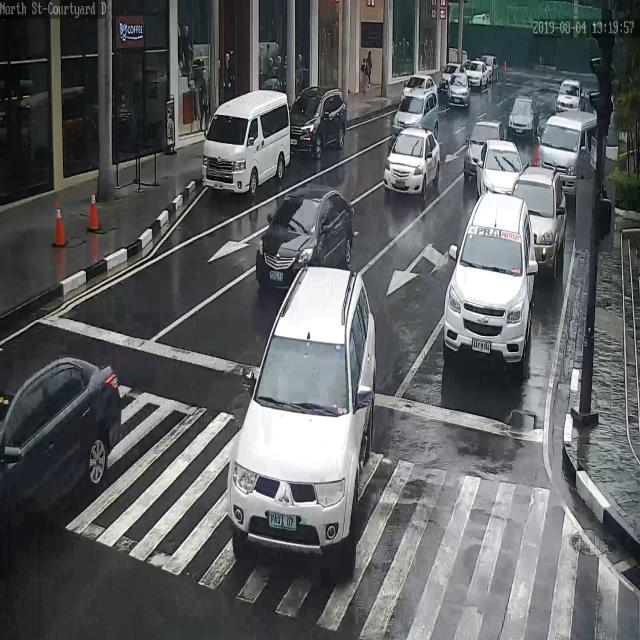car: (228, 265, 377, 577), (0, 342, 120, 538), (443, 191, 539, 366), (255, 184, 355, 291), (508, 167, 568, 276), (384, 129, 440, 196), (291, 86, 346, 154), (477, 140, 524, 194), (463, 119, 504, 179), (393, 90, 439, 138), (508, 95, 539, 137), (400, 74, 439, 104), (555, 79, 585, 113), (448, 74, 470, 108), (440, 63, 465, 92), (467, 60, 488, 87), (481, 54, 499, 84)
van: (201, 89, 291, 194), (538, 112, 595, 193)
